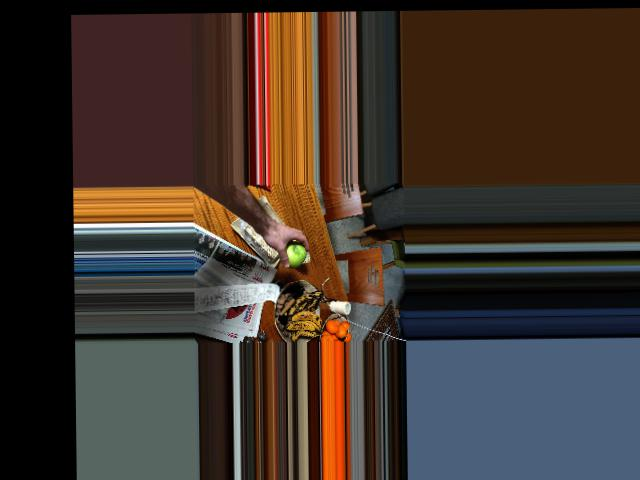apple: (276, 235, 310, 269)
